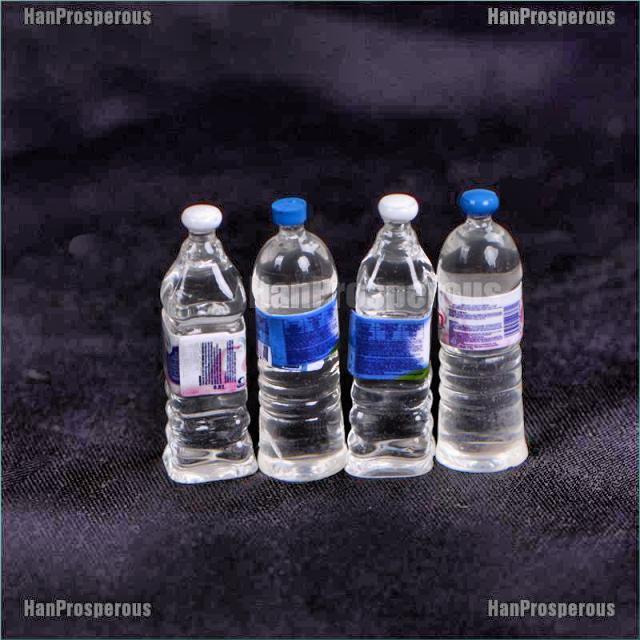Bottles: (433, 177, 538, 483), (252, 189, 348, 499), (160, 194, 259, 491), (351, 185, 436, 509)
